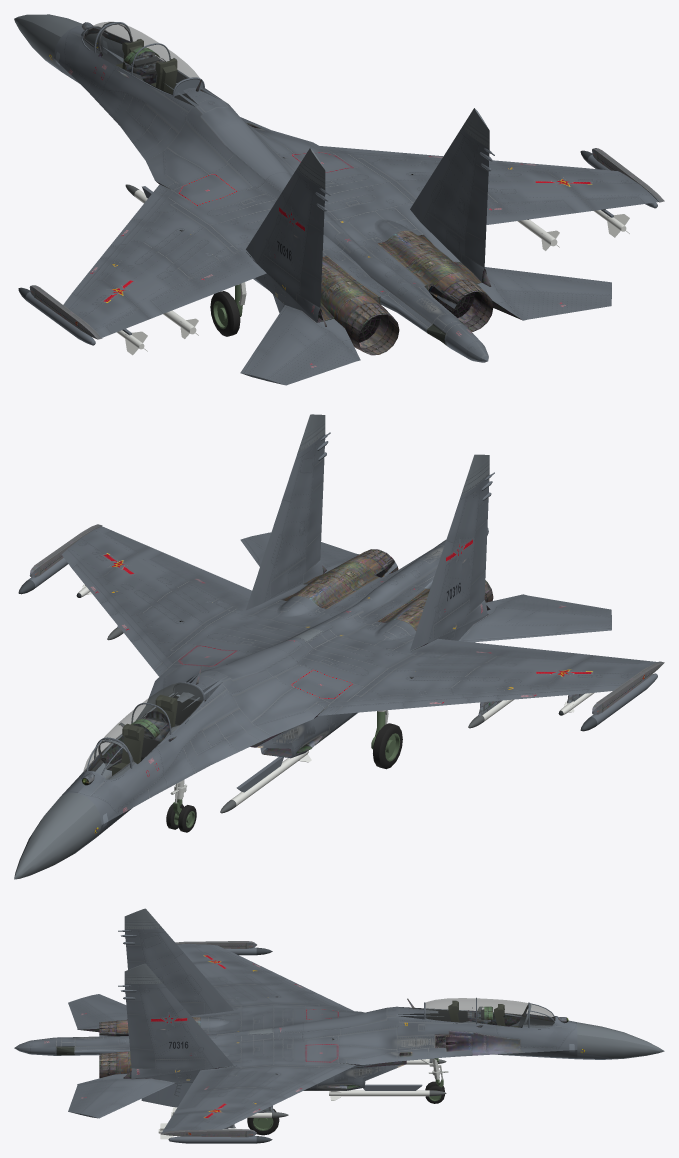
3 renders of one model, top to bottom at view 1: azimuth 30°, elevation 25°; view 2: azimuth 150°, elevation 25°; view 3: azimuth 270°, elevation 25°, orthographic. The views are drawn at different scales.
Parts seen in each view (by area): view 1: J16 fuselage, wings & tail, ELV_Elevon_Left, ELV_Elevon_Right, Canopy glass (opens about rear hinge), WNG_Left_Flaperon, HULL_Speedbrake_Outer, TF_Right_Rudder, TF_Left_Rudder, WNG_Right_Flaperon, UC_Main_Left_Tyre, Wingtip ECM pod port body, Canopy & windshield frames (+2 smaller); view 2: J16 fuselage, wings & tail, ELV_Elevon_Left, Canopy glass (opens about rear hinge), WNG_Right_Flaperon, WNG_Left_Flaperon, TF_Left_Rudder, TF_Right_Rudder, HULL_Speedbrake_Outer, Windshield glass, ELV_Elevon_Right, Canopy & windshield frames, Front ejection seat (+2 smaller); view 3: J16 fuselage, wings & tail, ELV_Elevon_Right, Canopy glass (opens about rear hinge), ELV_Elevon_Left, TF_Right_Rudder, WNG_Right_Flaperon, HULL_Speedbrake_Outer, Wingtip ECM pod starboard body, PL-15 under-intake starboard body, Windshield glass, Canopy & windshield frames, TF_Left_Rudder (+2 smaller).
Part boxes in pixels (x1,y1,x2,y2): J16 fuselage, wings & tail: [14, 14, 664, 362]; ELV_Elevon_Left: [240, 305, 360, 385]; ELV_Elevon_Right: [474, 267, 611, 320]; Canopy glass (opens about rear hinge): [96, 23, 199, 94]; WNG_Left_Flaperon: [150, 248, 266, 313]; HULL_Speedbrake_Outer: [196, 100, 288, 179]; TF_Right_Rudder: [464, 163, 488, 267]; TF_Left_Rudder: [300, 203, 324, 307]; WNG_Right_Flaperon: [409, 200, 575, 224]; UC_Main_Left_Tyre: [210, 291, 240, 336]; Wingtip ECM pod port body: [25, 292, 95, 345]; Canopy & windshield frames: [81, 22, 204, 96]; J16 fuselage, wings & tail: [14, 414, 664, 879]; ELV_Elevon_Left: [458, 594, 611, 642]; Canopy glass (opens about rear hinge): [97, 682, 202, 765]; WNG_Right_Flaperon: [150, 552, 251, 610]; WNG_Left_Flaperon: [410, 638, 575, 659]; TF_Left_Rudder: [470, 498, 488, 612]; TF_Right_Rudder: [305, 458, 324, 572]; HULL_Speedbrake_Outer: [196, 647, 288, 682]; Windshield glass: [83, 739, 129, 779]; ELV_Elevon_Right: [240, 532, 359, 573]; Canopy & windshield frames: [81, 682, 204, 781]; Front ejection seat: [112, 723, 144, 775]; J16 fuselage, wings & tail: [14, 908, 664, 1137]; ELV_Elevon_Right: [68, 1073, 174, 1118]; Canopy glass (opens about rear hinge): [425, 998, 528, 1027]; ELV_Elevon_Left: [68, 994, 127, 1032]; TF_Right_Rudder: [126, 1000, 155, 1069]; WNG_Right_Flaperon: [176, 1066, 236, 1109]; HULL_Speedbrake_Outer: [303, 1006, 396, 1031]; Wingtip ECM pod starboard body: [168, 1136, 256, 1143]; PL-15 under-intake starboard body: [329, 1090, 429, 1096]; Windshield glass: [530, 1004, 554, 1027]; Canopy & windshield frames: [424, 997, 556, 1029]; TF_Left_Rudder: [126, 945, 145, 969].
Bounding box in the file's own units: 15.25 × 6.36 × 21.9.
13 materials, 1 textured.
